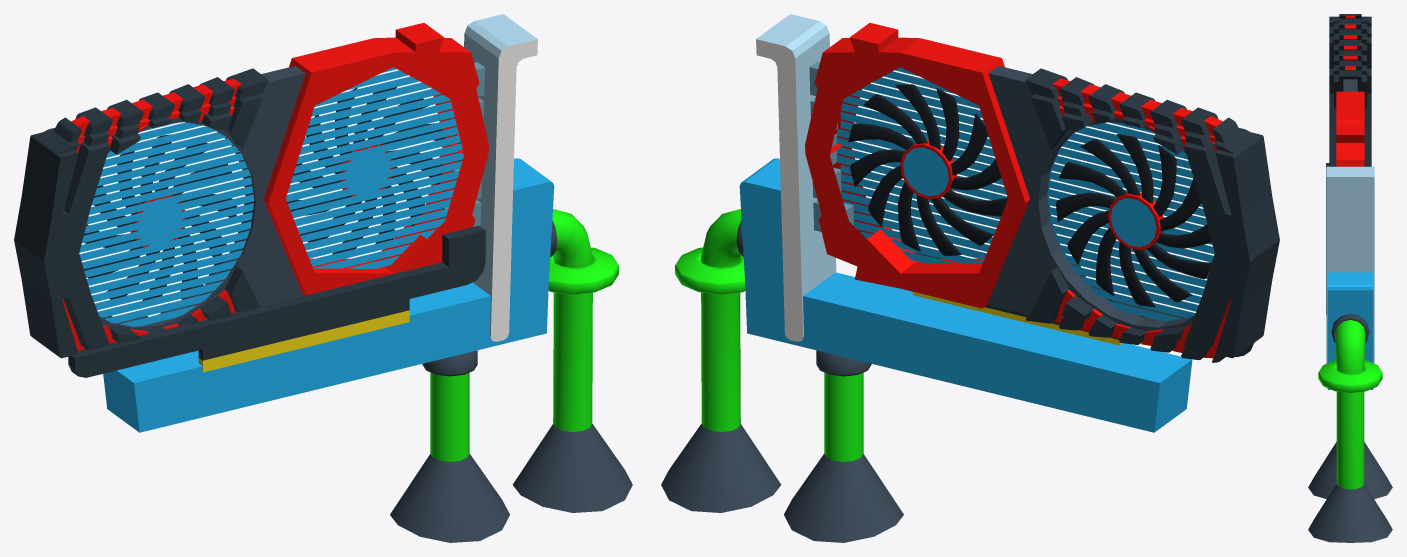
File: Fan_2new.fbx
3 views of the same model, side by side, from view 1: azimuth 30°, elevation 25°; view 2: azimuth 150°, elevation 25°; view 3: azimuth 270°, elevation 25° (orthographic). The views are drawn at different scales.
Parts seen in each view (by area): view 1: Fan_2_machine, Fan_2_statictable, Fan_2_staticstick, Green_pipe, Green_pipe_funnel, Yellow_pipe_small_funnel.001, Yellow_pipe_small.001, Fan_2.002, Fan_2, Green_pipe_circle; view 2: Fan_2_machine, Fan_2_statictable, Fan_2.002, Fan_2, Fan_2_staticstick, Green_pipe, Green_pipe_funnel, Yellow_pipe_small_funnel.001, Yellow_pipe_small.001, Green_pipe_circle; view 3: Fan_2_machine, Fan_2_staticstick, Green_pipe, Green_pipe_funnel, Fan_2_statictable, Yellow_pipe_small_funnel.001, Green_pipe_circle.
Boxes of the visible parts, x1,y1,x2,y2 form: Fan_2_machine: [14, 23, 488, 377]; Fan_2_statictable: [103, 158, 554, 432]; Fan_2_staticstick: [440, 14, 537, 341]; Green_pipe: [550, 209, 592, 431]; Green_pipe_funnel: [512, 424, 632, 512]; Yellow_pipe_small_funnel.001: [390, 454, 509, 542]; Yellow_pipe_small.001: [422, 350, 477, 461]; Fan_2.002: [287, 87, 444, 254]; Fan_2: [83, 134, 236, 300]; Green_pipe_circle: [548, 247, 618, 294]; Fan_2_machine: [805, 23, 1279, 362]; Fan_2_statictable: [739, 158, 1192, 432]; Fan_2.002: [848, 84, 1007, 255]; Fan_2: [1056, 134, 1211, 307]; Fan_2_staticstick: [756, 14, 853, 341]; Green_pipe: [701, 209, 743, 431]; Green_pipe_funnel: [661, 424, 781, 512]; Yellow_pipe_small_funnel.001: [784, 454, 903, 542]; Yellow_pipe_small.001: [816, 350, 871, 461]; Green_pipe_circle: [675, 247, 745, 294]; Fan_2_machine: [1326, 14, 1371, 314]; Fan_2_staticstick: [1326, 166, 1374, 363]; Green_pipe: [1331, 314, 1369, 489]; Green_pipe_funnel: [1308, 484, 1392, 542]; Fan_2_statictable: [1327, 272, 1373, 389]; Yellow_pipe_small_funnel.001: [1308, 442, 1392, 499]; Green_pipe_circle: [1318, 360, 1382, 392].
Size of the model in its own units: 1.57 by 1.24 by 0.2756.
